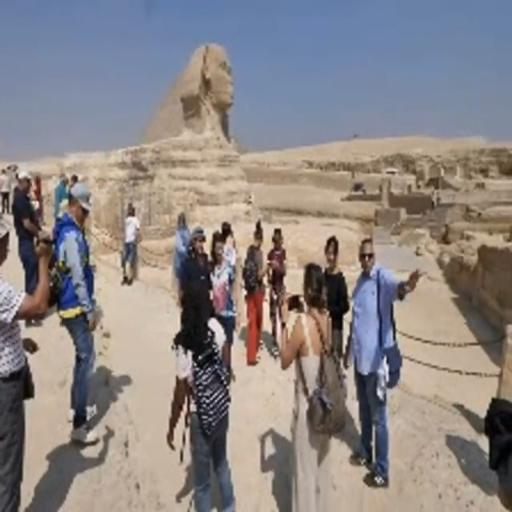nao-violencia: (160, 215, 240, 341), (231, 216, 293, 362)
